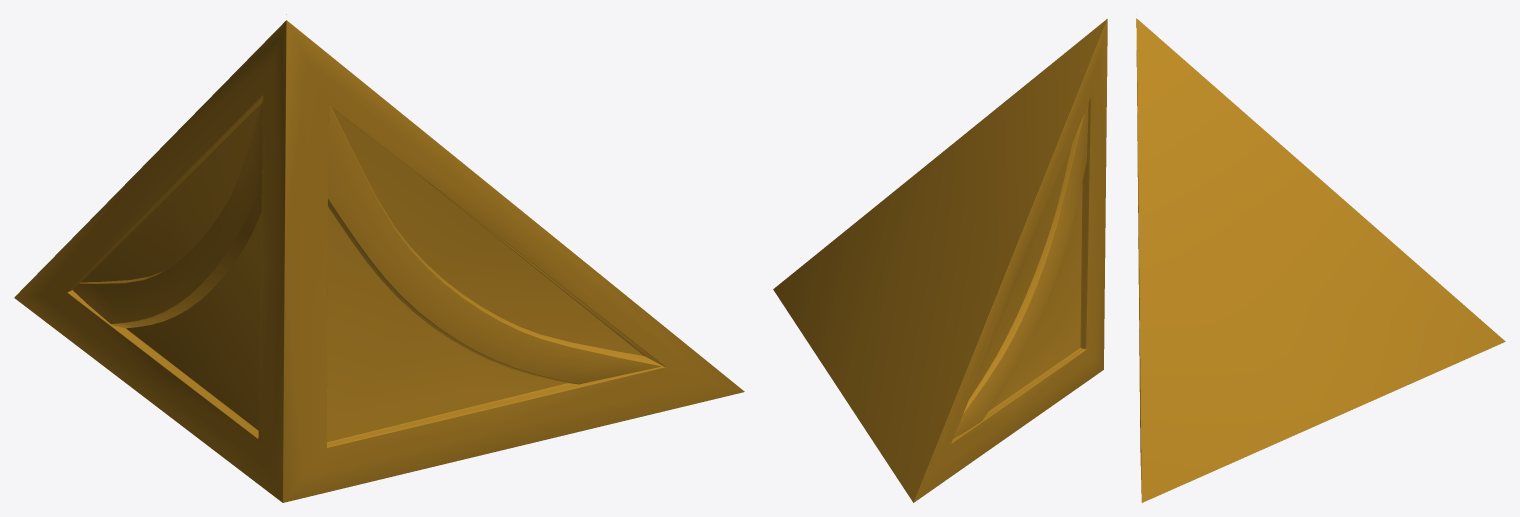
The model's file is Holocron_Esquina_02.obj.
3 renders of one model, left to right at view 1: azimuth 30°, elevation 25°; view 2: azimuth 150°, elevation 25°; view 3: azimuth 270°, elevation 25°, orthographic. The views are drawn at different scales.
Visible parts, largest first — view 1: Holocron_Esquina_02; view 2: Holocron_Esquina_02; view 3: Holocron_Esquina_02.
Boxes of the visible parts, <box> form: Holocron_Esquina_02: <box>14,14,744,502</box>; Holocron_Esquina_02: <box>773,19,1107,502</box>; Holocron_Esquina_02: <box>1136,18,1505,502</box>.
Bounding box in the file's own units: 5.15 × 5.23 × 5.21.
